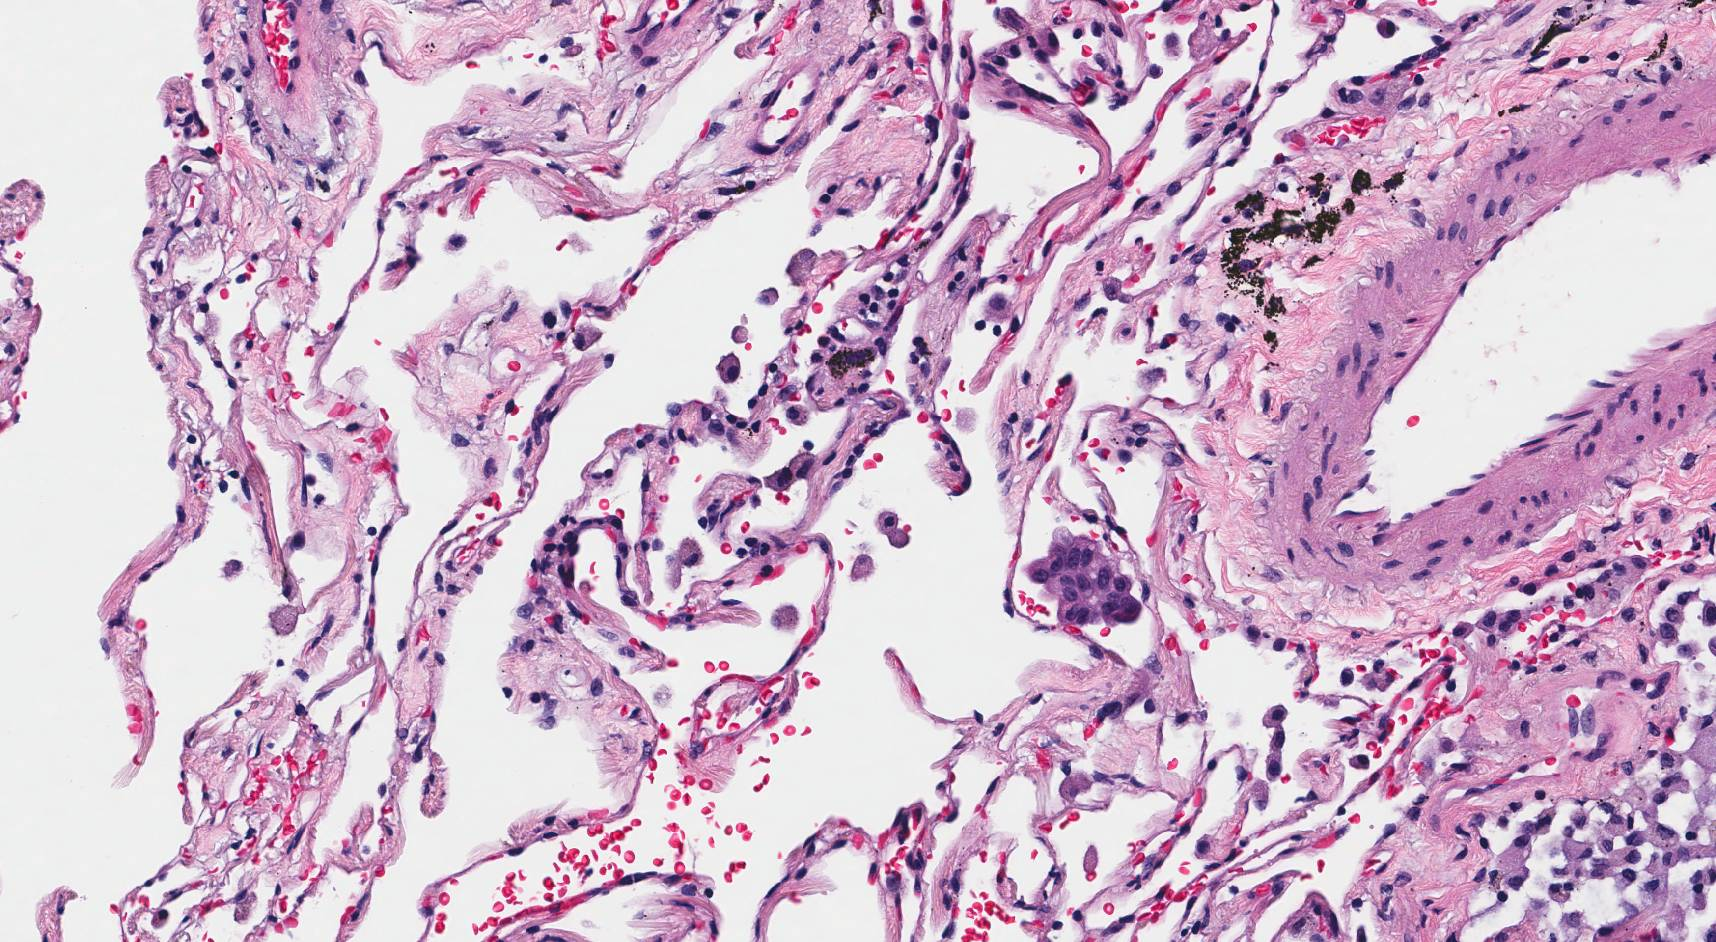stas: (1023, 526, 1142, 626)
